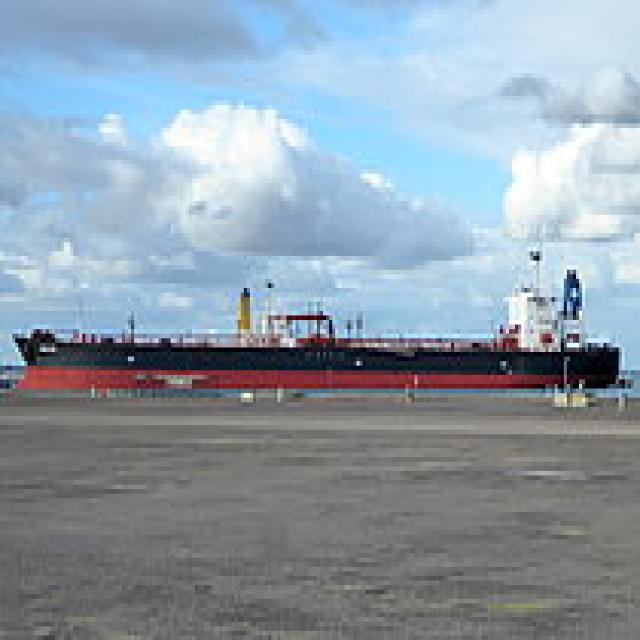Tanker: (3, 220, 622, 393)
